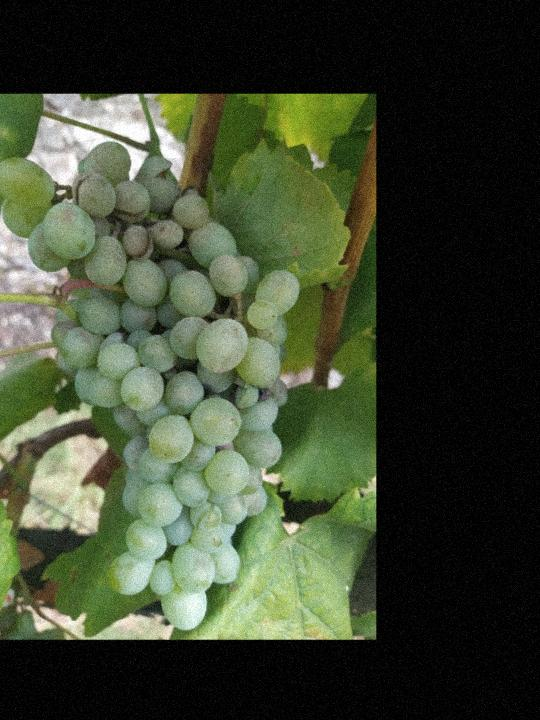grape: (0, 139, 302, 632)
